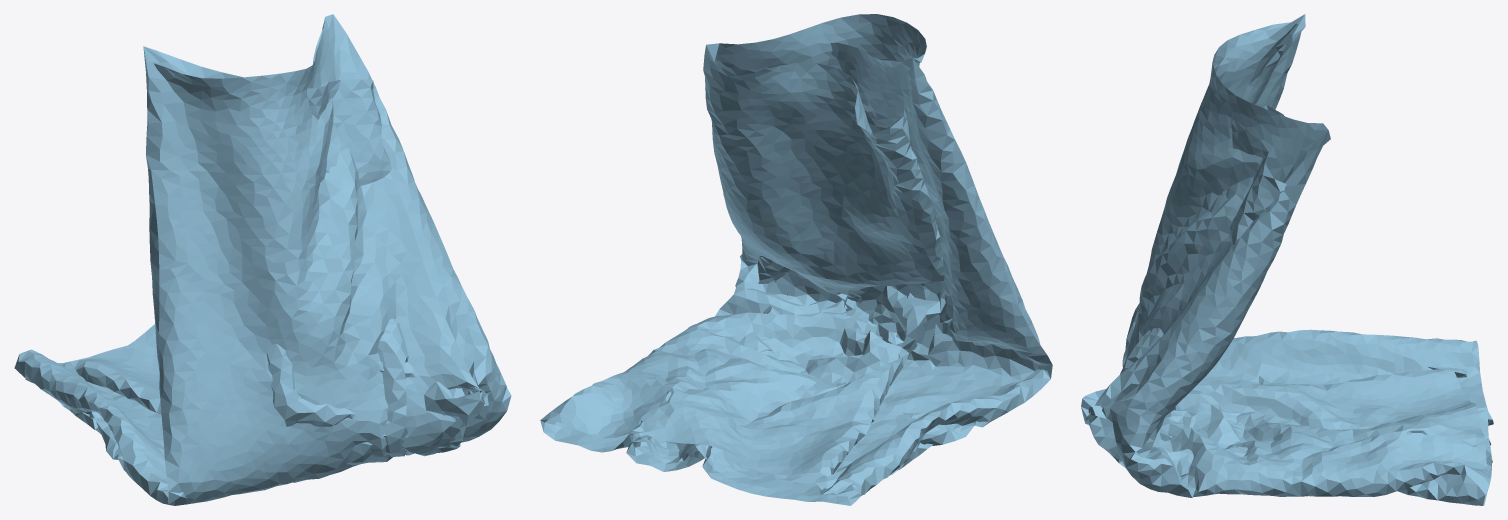
File: frame_14.glb
The picture shows the model from 3 angles, left to right: view 1: azimuth 30°, elevation 25°; view 2: azimuth 150°, elevation 25°; view 3: azimuth 270°, elevation 25°; orthographic projection. The views are drawn at different scales.
Parts seen in each view (by area): view 1: frame_14.obj; view 2: frame_14.obj; view 3: frame_14.obj.
Boxes of the visible parts, x1,y1,x2,y2 form: frame_14.obj: [14, 14, 511, 505]; frame_14.obj: [540, 14, 1052, 505]; frame_14.obj: [1081, 14, 1493, 505].
Bounding box in the file's own units: 0.8923 × 0.9748 × 0.9814.
